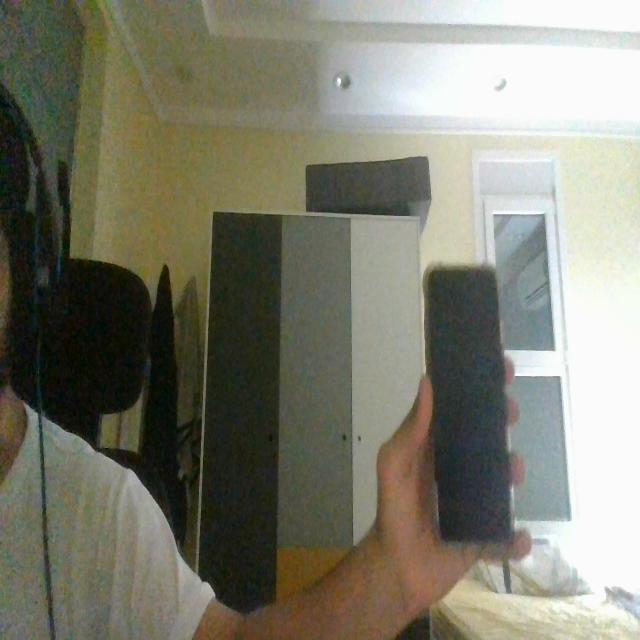Phone: (420, 262, 518, 553)
